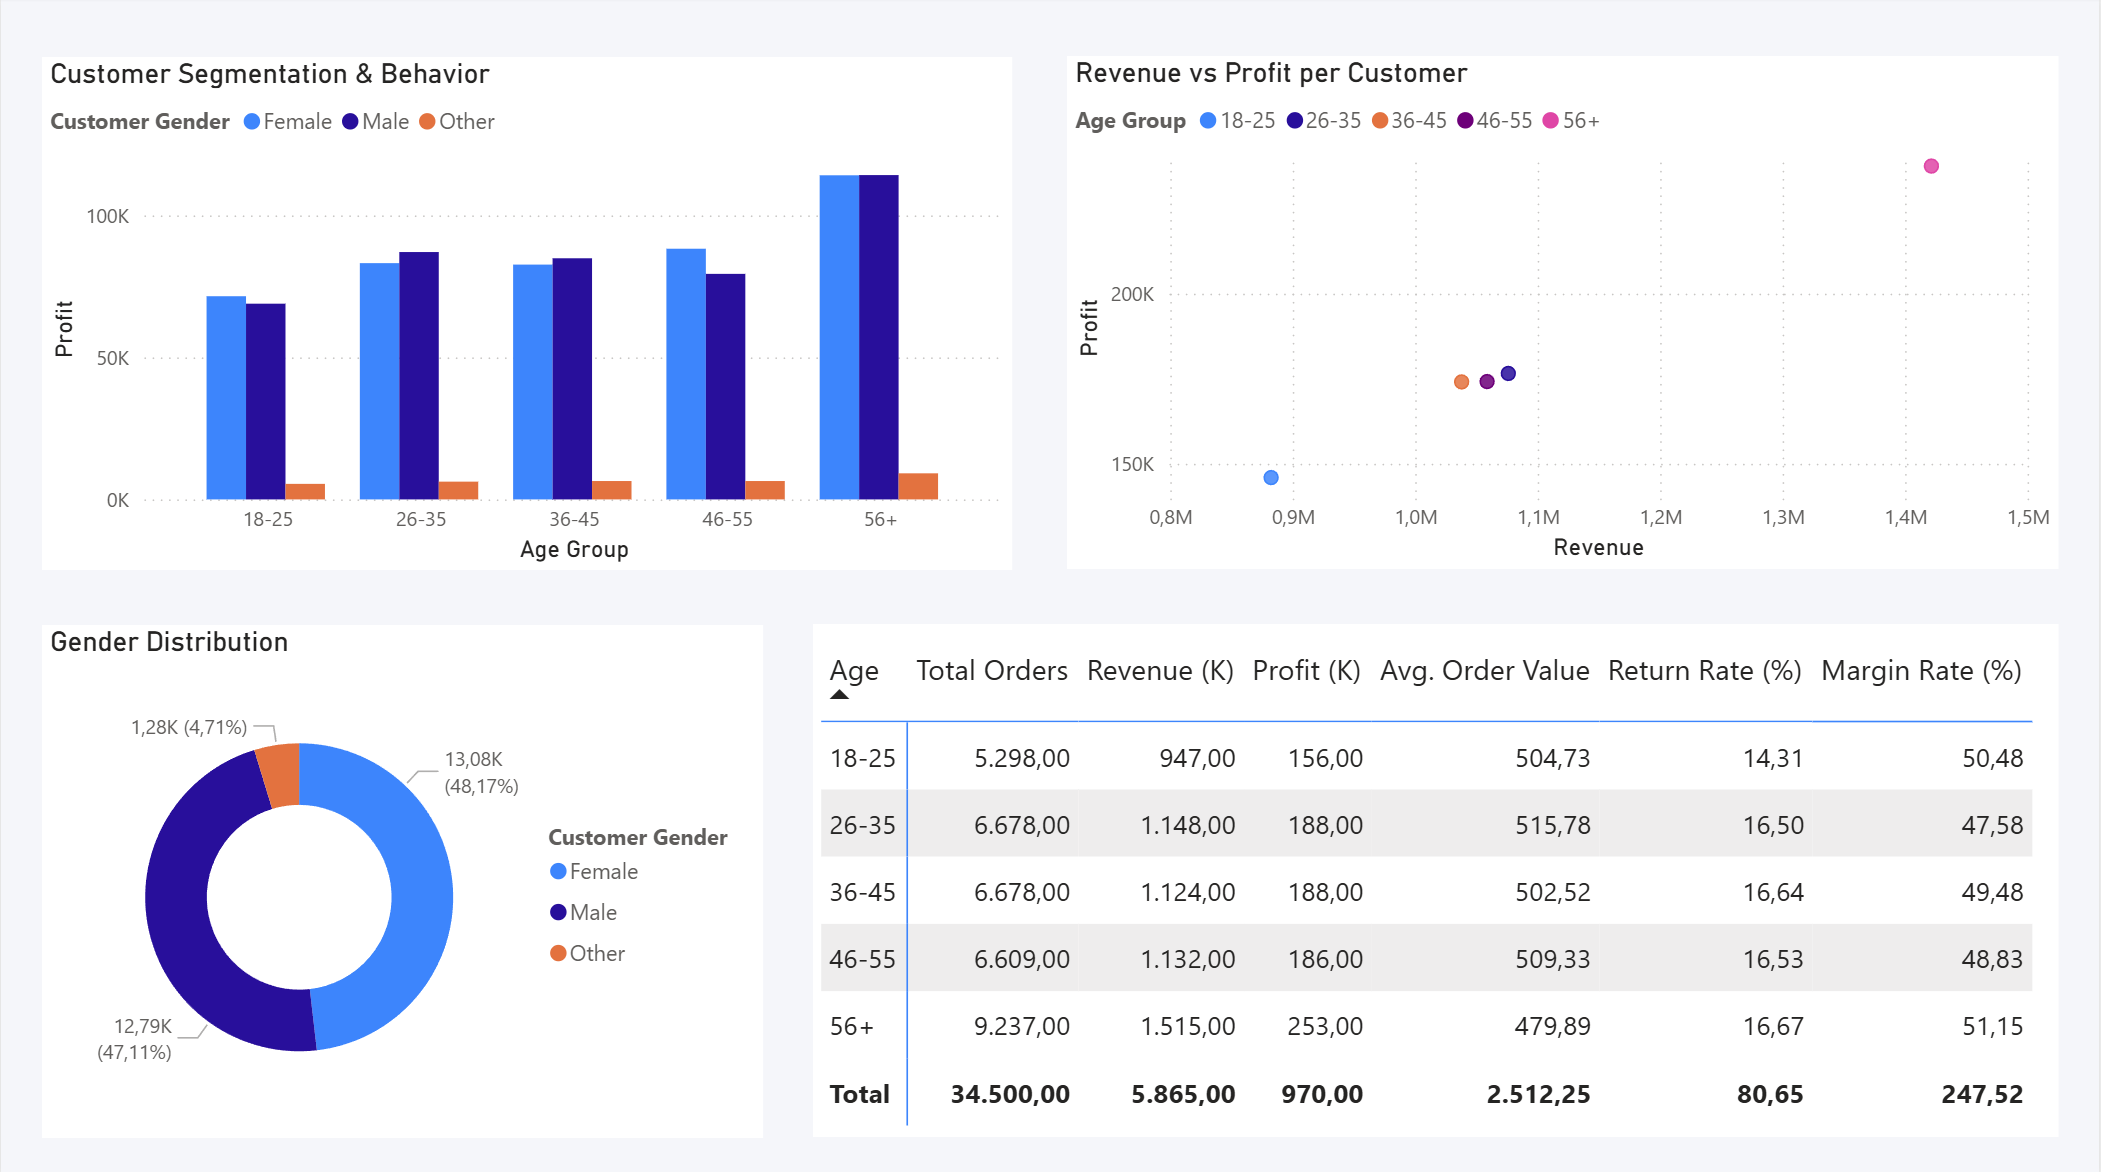

What the dashboard file says about the page in this screenshot:
{"tool":"powerbi","page":{"name":"Customer Insights","canvas":[1280,720],"ordinal":1},"visuals":[{"type":"pivotTable","fields":{"Values":["Sum(customer_segment_kpi.total_orders)","customer_segment_kpi.Revenue (K)","customer_segment_kpi.Profit (K)","Sum(customer_segment_kpi.avg_order_value)","Sum(customer_segment_kpi.return_rate_pct)","Sum(customer_segment_kpi.profit_margin_pct)"],"Rows":["customer_segment_kpi.age_group"]},"box":[495.2,382.7,760.2,312.9],"z":0},{"type":"clusteredColumnChart","title":"Customer Segmentation & Behavior","fields":{"Category":["09_customer_segment_kpi.age_group"],"Y":["Sum(09_customer_segment_kpi.total_profit)"],"Series":["09_customer_segment_kpi.customer_gender"]},"box":[24.5,36.7,591,313],"z":2000},{"type":"scatterChart","title":"Revenue vs Profit per Customer","fields":{"Series":["09_customer_segment_kpi.age_group"],"Y":["Sum(09_customer_segment_kpi.total_profit)"],"X":["Sum(09_customer_segment_kpi.total_revenue)"]},"box":[640,36.7,615.5,313],"z":3000},{"type":"donutChart","title":"Gender Distribution","fields":{"Category":["09_customer_segment_kpi.customer_gender"],"Y":["Sum(09_customer_segment_kpi.customer_count)"]},"box":[24.5,383,440.7,313],"z":3001}]}

Visuals, with their boxes in screenshot pixels (x1, y1, x2, y2), scaled from the page's 1280x720 canvas onto the 2101x1172 screenshot:
pivotTable - Sum(customer_segment_kpi.total_orders) x customer_segment_kpi.Revenue (K): left=813, top=623, right=2061, bottom=1132
"Customer Segmentation & Behavior" clusteredColumnChart: left=40, top=60, right=1010, bottom=569
"Revenue vs Profit per Customer" scatterChart: left=1050, top=60, right=2061, bottom=569
"Gender Distribution" donutChart: left=40, top=623, right=764, bottom=1133
